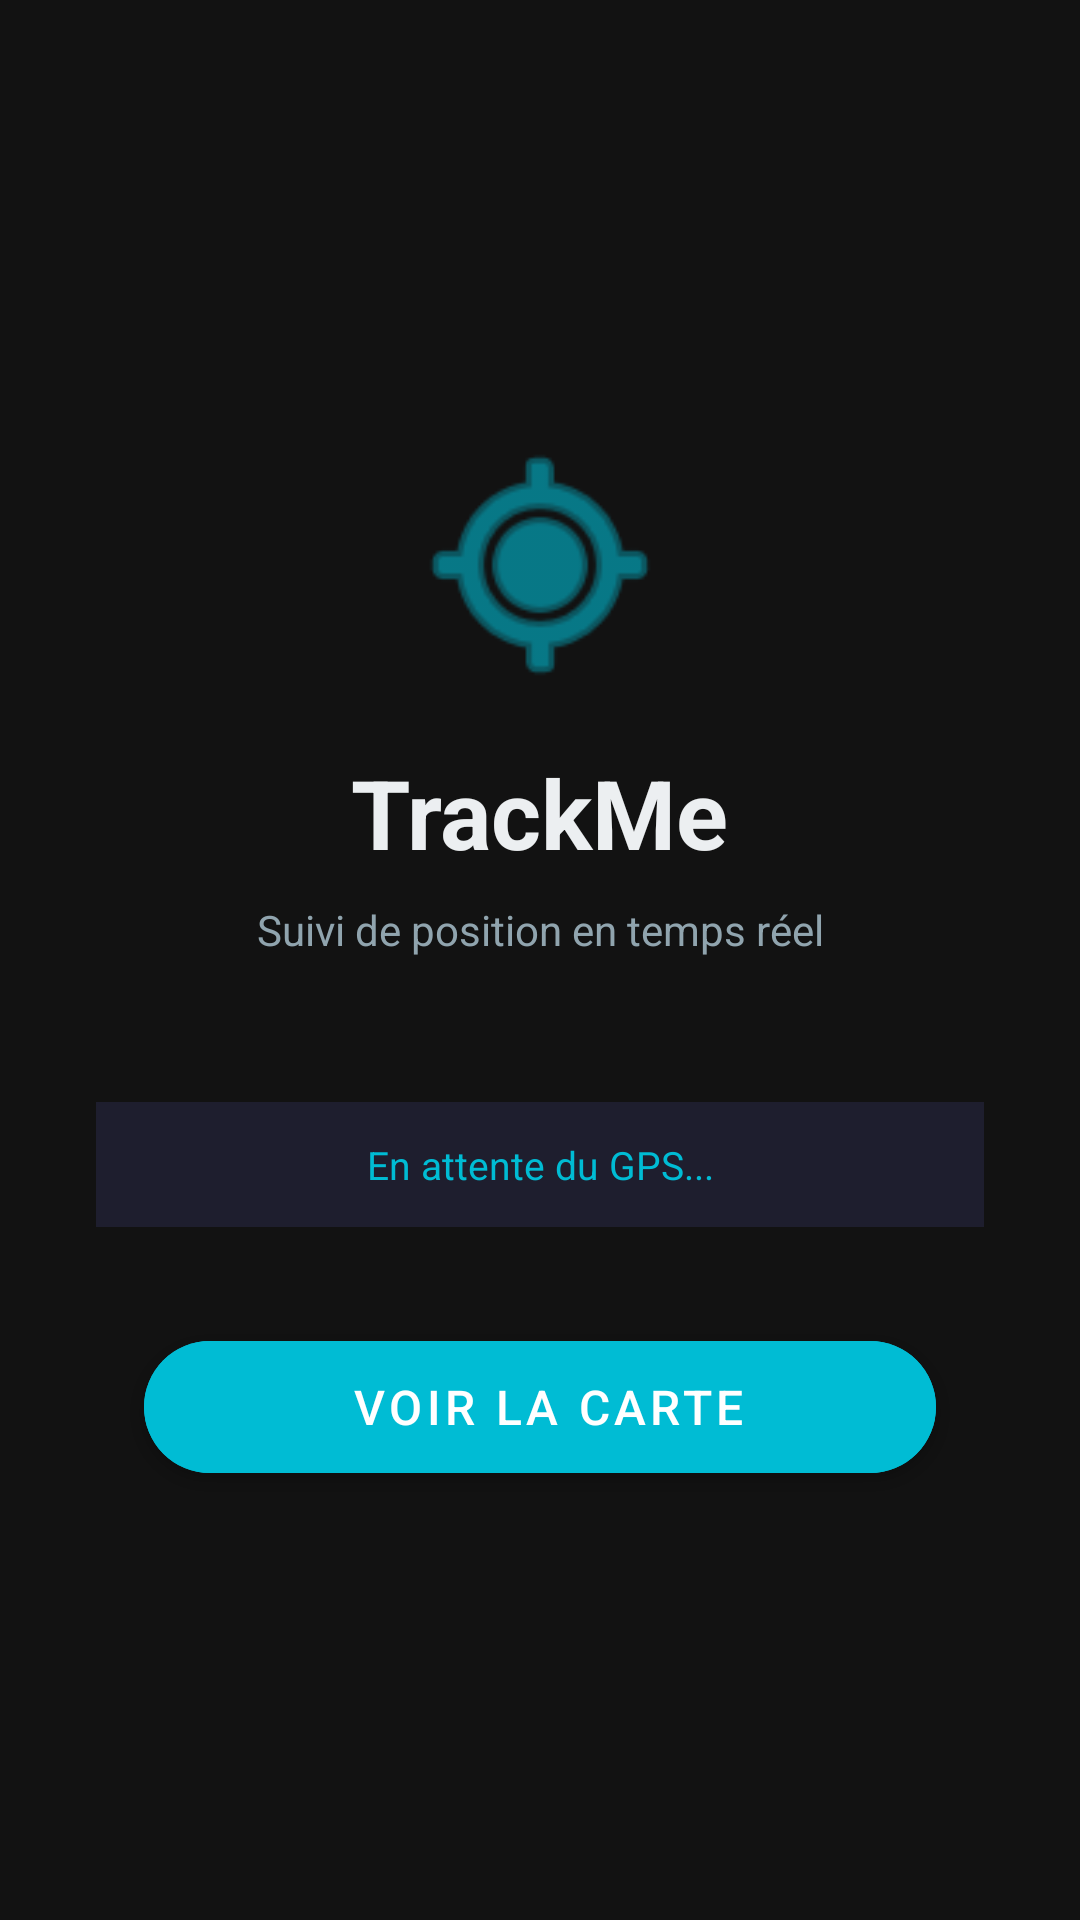

Point at icon controls on the screen. Image size 1080px×1920px, points as [x,y].
mylocation: [540,565]
